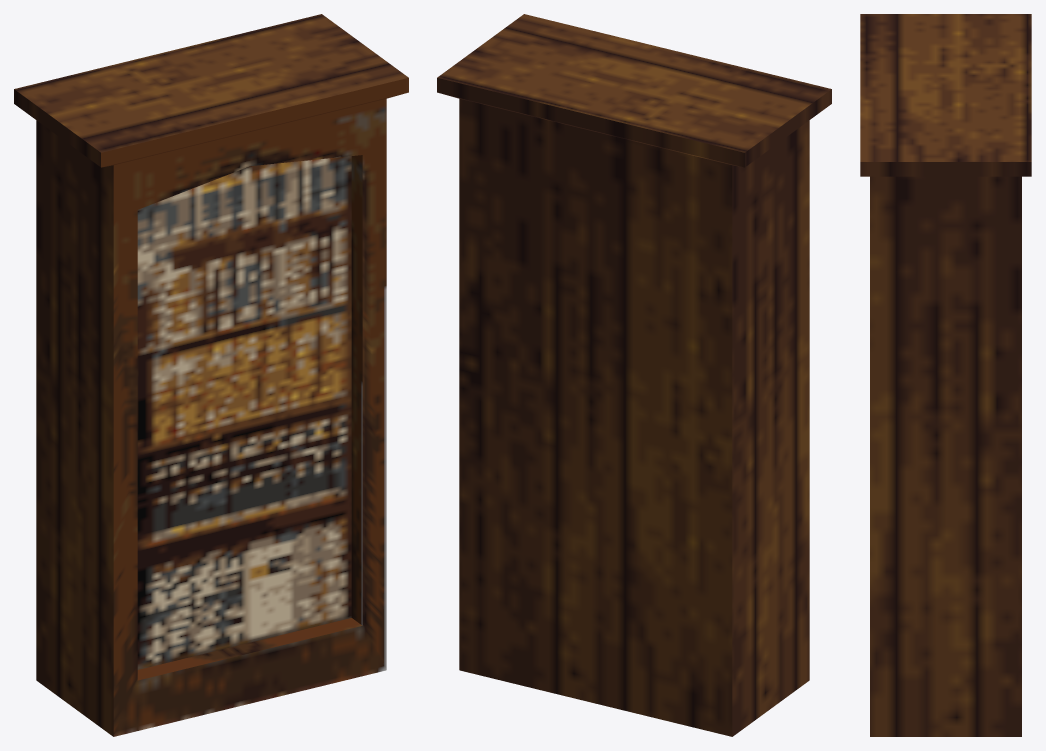
File: SM_Dungeon_Bookshelf_Glass.fbx
3 views of the same model, side by side, from view 1: azimuth 30°, elevation 25°; view 2: azimuth 150°, elevation 25°; view 3: azimuth 270°, elevation 25° (orthographic).
Parts seen in each view (by area): view 1: SM_Dungeon_Bookshelf_Glass; view 2: SM_Dungeon_Bookshelf_Glass; view 3: SM_Dungeon_Bookshelf_Glass.
Boxes of the visible parts, x1,y1,x2,y2 form: SM_Dungeon_Bookshelf_Glass: (14,14,408,736); SM_Dungeon_Bookshelf_Glass: (437,14,831,736); SM_Dungeon_Bookshelf_Glass: (860,14,1031,736).
Bounding box in the file's own units: 113 × 207 × 55.22.
